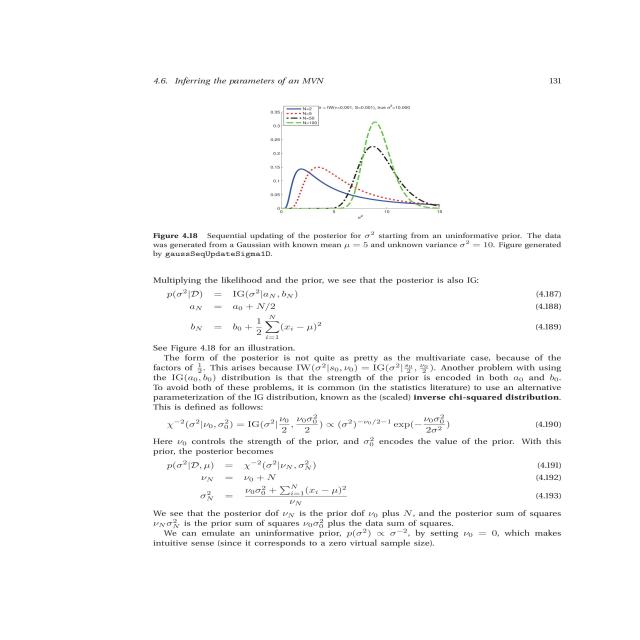diagram: (104, 72, 638, 271)
